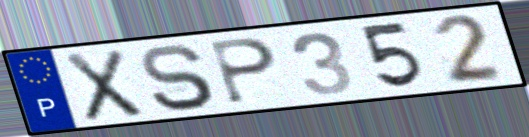2: (430, 13, 507, 88)
3: (290, 31, 353, 96)
5: (358, 19, 426, 92)
P: (207, 36, 280, 106)
S: (136, 42, 218, 113)
X: (61, 47, 146, 124)
